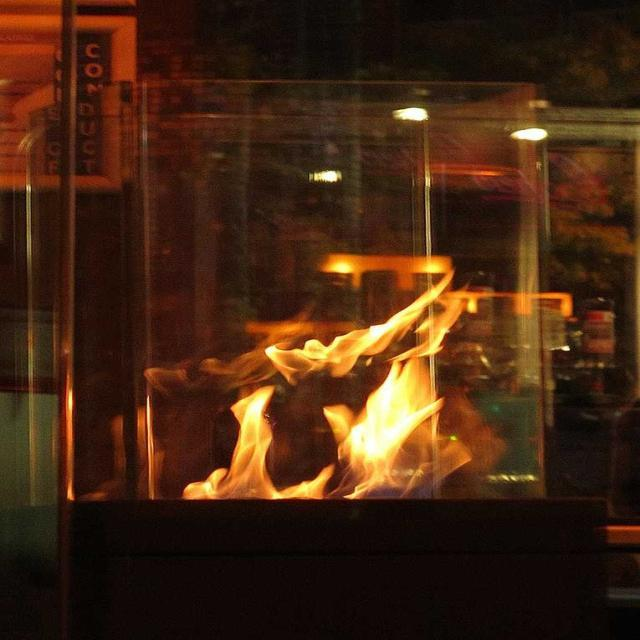Fire: (358, 384, 439, 501)
